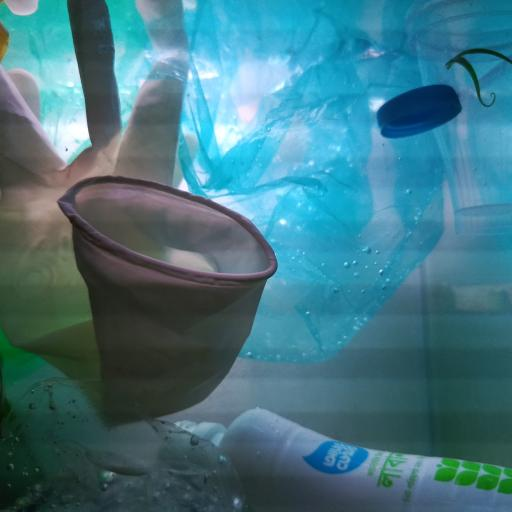bottle_cap: (378, 83, 462, 139)
glove: (0, 2, 276, 430)
plastic_bag: (35, 40, 445, 363), (0, 373, 255, 512)
plastic_bottle: (175, 404, 512, 512)
plastic_cup: (407, 0, 512, 236)
